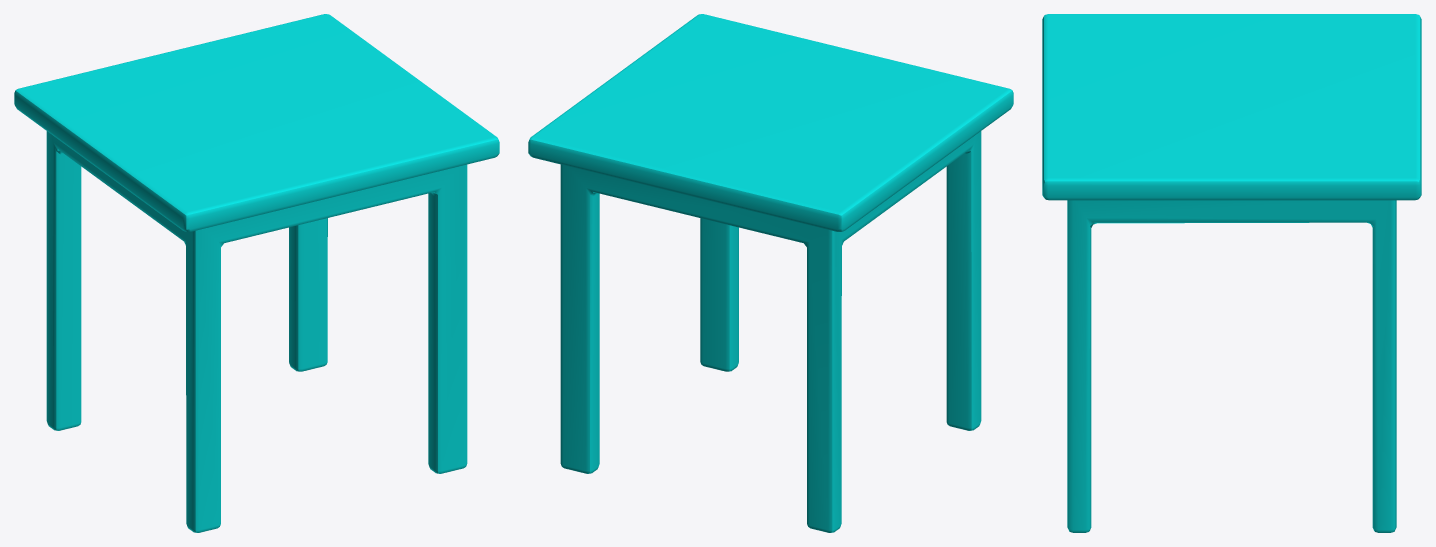
The model's file is SM_Table_bar.fbx.
The picture shows the model from 3 angles, left to right: view 1: azimuth 30°, elevation 25°; view 2: azimuth 150°, elevation 25°; view 3: azimuth 270°, elevation 25°; orthographic projection. The views are drawn at different scales.
Parts seen in each view (by area): view 1: table; view 2: table; view 3: table.
Boxes of the visible parts, x1,y1,x2,y2 form: table: (14,14,499,532); table: (528,14,1013,532); table: (1042,14,1421,532).
Size of the model in its own units: 82.79 by 83.74 by 78.67.
